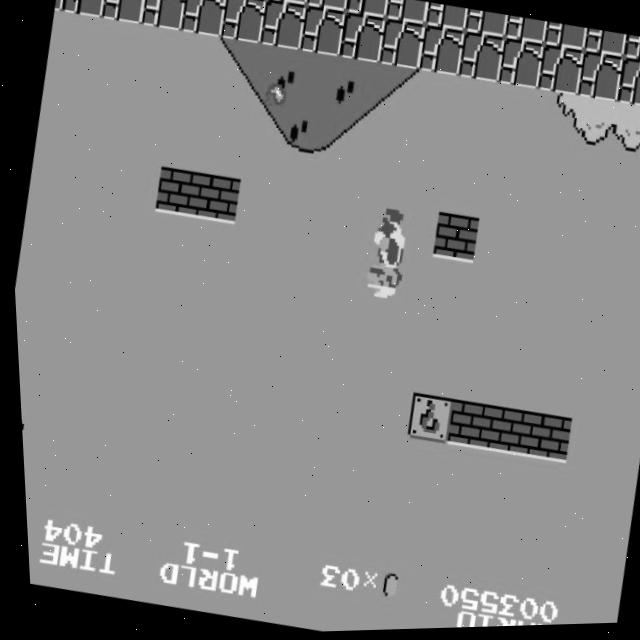1- brick_block: (150, 167, 202, 221), (428, 213, 479, 267), (190, 173, 241, 227), (519, 414, 570, 467), (479, 408, 530, 461), (440, 401, 491, 454)
13- mystery_block: (400, 394, 451, 448)
17- undestructible_block: (534, 46, 586, 101), (336, 13, 388, 67), (495, 39, 546, 94), (574, 53, 625, 107), (455, 33, 506, 87), (416, 26, 467, 80), (376, 20, 427, 74), (297, 6, 348, 60), (257, 0, 308, 54), (218, 0, 269, 47), (178, 0, 229, 40), (139, 0, 189, 33), (613, 60, 640, 114), (581, 31, 628, 62), (542, 24, 588, 55), (502, 18, 548, 49), (463, 11, 509, 42), (423, 4, 469, 35), (100, 0, 150, 27), (384, 0, 430, 29), (344, 0, 390, 22), (61, 0, 111, 20), (305, 0, 351, 15), (621, 38, 640, 69), (265, 0, 311, 8), (53, 0, 70, 12), (226, 0, 271, 2)
4- fire_mario: (354, 209, 418, 310)
5- fireball: (261, 84, 287, 114)
